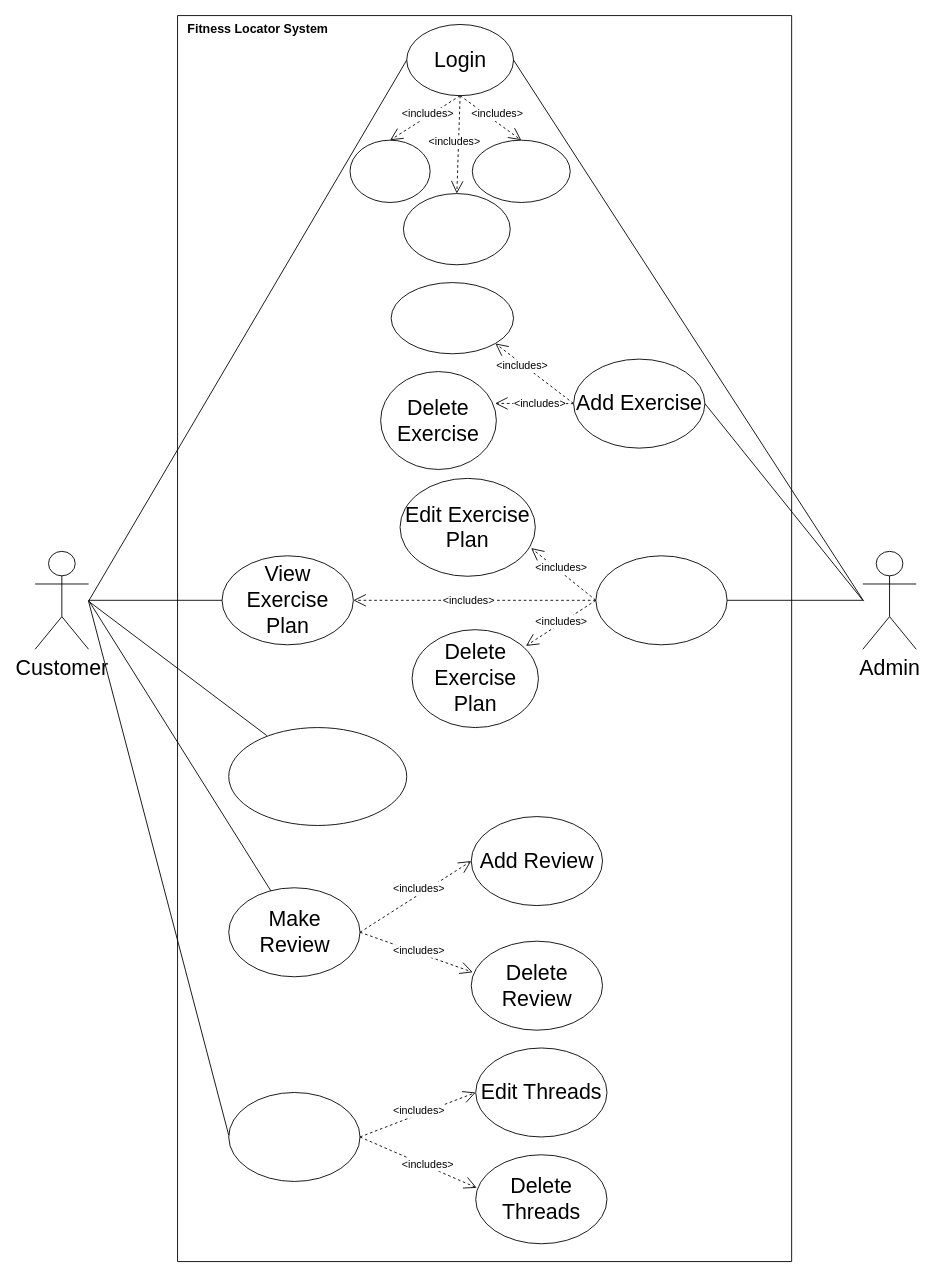
The diagram is 935 pixels wide and 1277 high, and some of its shapes have lost their labels. The shapes that lost their labels are listed below. From the top down, each one's box as (x1, y1, x2, y2) in pixels, then its label:
(349, 139, 430, 202): Edit Profile
(471, 139, 570, 202): View Profile
(403, 193, 510, 265): Delete Accont
(390, 282, 514, 354): Edit Exercise
(595, 555, 727, 645): Add Exercise Plan
(228, 727, 407, 825): Navigate Map
(228, 1092, 360, 1181): Create Threads
